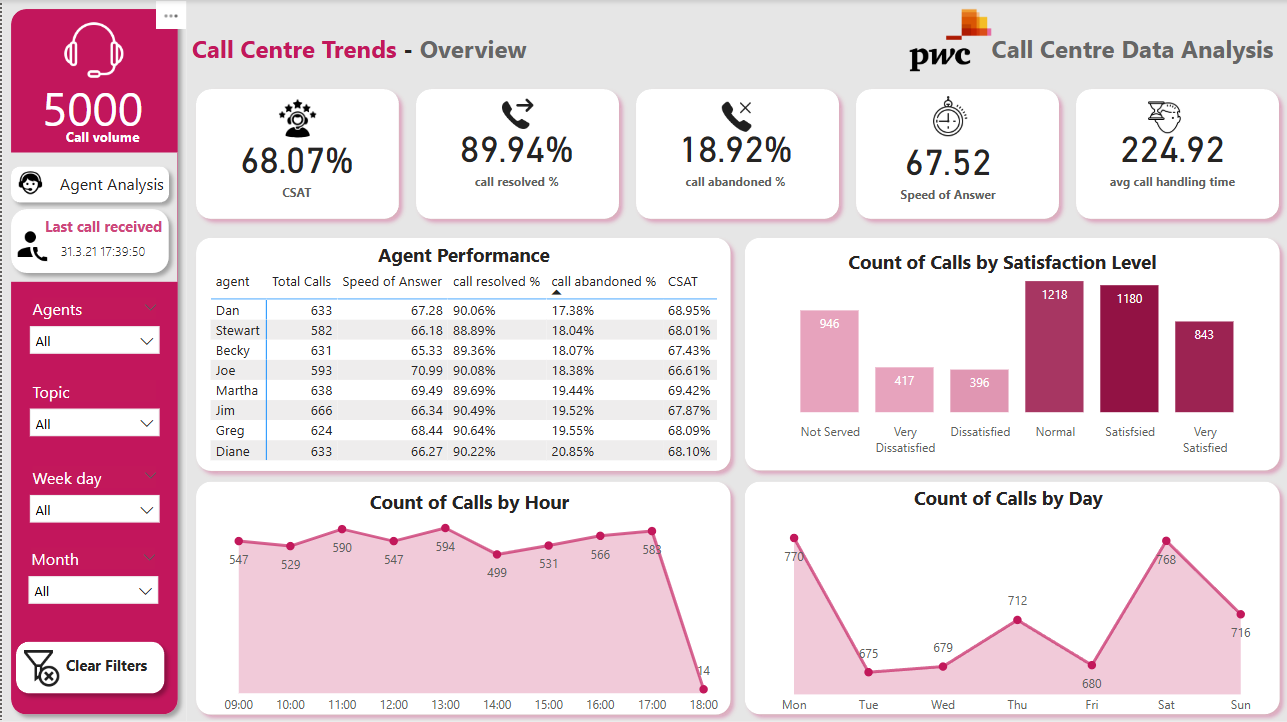

The dashboard page shown, as its layout file describes it:
{"tool":"powerbi","page":{"name":"Duplicate of BG","canvas":[1280,720],"ordinal":1},"visuals":[{"type":"group","id":"g1","title":"BG","box":[0,0,1280,720.3],"z":0},{"type":"shape","box":[0,0,184,720],"z":0,"group":"g1"},{"type":"shape","box":[184,79.9,220,147.2],"z":0,"group":"g2"},{"type":"image","box":[52.1,13.8,78.6,73.7],"z":1000},{"type":"shape","box":[403,79.9,220,147.2],"z":1000,"group":"g2"},{"type":"shape","box":[184,227.1,550,250],"z":1000,"group":"g1"},{"type":"textbox","box":[184,26.9,357.3,53],"z":2000,"group":"g1"},{"type":"card","fields":{"Values":["measures table.total calls"]},"box":[13.7,68.4,153,75.9],"z":2000},{"type":"shape","box":[622,79.9,220,147.2],"z":2000,"group":"g2"},{"type":"image","box":[897.8,0,91.6,79.9],"z":3000,"group":"g1"},{"type":"card","fields":{"Values":["measures table.call resolved percentage"]},"box":[374.4,79.6,276.2,146.8],"z":3000},{"type":"shape","box":[841,79.9,220,147.2],"z":3000,"group":"g2"},{"type":"textbox","box":[967.8,26.9,302.5,53],"z":4000,"group":"g1"},{"type":"card","fields":{"Values":["measures table.call abandoned percentage"]},"box":[598.3,79.6,263.7,148],"z":4000},{"type":"shape","box":[1060,79.9,220,147.2],"z":4000,"group":"g2"},{"type":"card","fields":{"Values":["measures table.speed of call answered"]},"box":[803.6,79.6,276.2,172.9],"z":5000},{"type":"group","id":"g2","title":"Group 1","box":[184,79.9,1096,147.2],"z":5000,"group":"g1"},{"type":"card","fields":{"Values":["measures table.call handling time"]},"box":[1049.9,79.6,230.1,148],"z":6000},{"type":"shape","box":[729.7,227.1,550.3,249.6],"z":6000,"group":"g1"},{"type":"card","fields":{"Values":["measures table.customer satisfaction"]},"box":[130.6,89.6,325.9,149.3],"z":7000},{"type":"shape","box":[184,470,550,250],"z":7000,"group":"g1"},{"type":"pivotTable","fields":{"Rows":["calls.agent"],"Values":["measures table.total calls","measures table.Speed of Answer","measures table.call resolved percentage","measures table.call abandoned %","measures table.CSAT"]},"box":[202.8,263.7,527.4,217.7],"z":8000},{"type":"shape","box":[729.7,470.4,550.3,249.6],"z":8000,"group":"g1"},{"type":"shape","box":[7.9,152.3,167,128.7],"z":9000,"group":"g1"},{"type":"areaChart","title":"total calls by hour","fields":{"Category":["calls.hours"],"Y":["measures table.total calls"]},"box":[210.2,507.5,513.8,212.7],"z":9000},{"type":"shape","box":[0,199.3,175.1,81.7],"z":10000,"group":"g1"},{"type":"areaChart","title":"total calls by day","fields":{"Y":["measures table.total calls"],"Category":["calls.day name"]},"box":[753.8,507.5,513.8,212.7],"z":10000},{"type":"shape","box":[0,156.2,175.1,53.9],"z":11000,"group":"g1"},{"type":"clusteredColumnChart","fields":{"Category":["calls.Satisfactions Levels"],"Y":["measures table.Total Calls"]},"box":[748.9,242.6,513.8,218.9],"z":11000},{"type":"card","fields":{"Values":["measures table.last call"]},"box":[51,227.6,99.5,49.8],"z":12000},{"type":"shape","box":[5.3,628.9,165.9,69.8],"z":12000,"group":"g1"},{"type":"slicer","title":"agents","fields":{"Values":["calls.agent"]},"box":[17.4,291.1,149.3,97],"z":13000},{"type":"image","box":[7.4,637.4,57.1,51.8],"z":13000,"group":"g1"},{"type":"slicer","title":"topic","fields":{"Values":["calls.topic"]},"box":[17.4,373.2,149.3,97],"z":14000},{"type":"textbox","box":[58.8,646.5,105.6,34.8],"z":14000,"group":"g1"},{"type":"textbox","box":[9.9,210.1,154.4,32.3],"z":15000,"group":"g1"},{"type":"slicer","title":"weekday","fields":{"Values":["calls.day name"]},"box":[17.4,459,149.3,97],"z":15000},{"type":"image","box":[5.4,220.8,45.8,43.1],"z":16000,"group":"g1"},{"type":"slicer","title":"month","fields":{"Values":["calls.month YY"]},"box":[16.2,539.9,149.3,97],"z":16000},{"type":"textbox","box":[49.7,122.3,100.8,34.9],"z":17000},{"type":"textbox","box":[9.8,167,156.2,32.4],"z":17000,"group":"g1"},{"type":"image","title":"Agent","box":[8.8,166,39.3,33.4],"z":18000,"group":"g1"},{"type":"textbox","box":[350.8,236.4,217.7,44.8],"z":18000},{"type":"textbox","box":[837.2,242.6,328.4,53.5],"z":18001},{"type":"textbox","box":[303.5,481.4,328.4,53.5],"z":18002},{"type":"textbox","box":[837.2,477.7,328.4,53.5],"z":18003},{"type":"image","box":[262.5,90.5,62.5,53.4],"z":19000,"group":"g1"},{"type":"image","box":[482.5,89.6,58.8,48.9],"z":20000,"group":"g1"},{"type":"image","box":[708.3,94.1,46.2,43.2],"z":21000,"group":"g1"},{"type":"image","box":[917.5,90.4,50.1,50.1],"z":22000,"group":"g1"},{"type":"image","box":[1135.2,95,42.5,46.2],"z":23000,"group":"g1"}]}

Visuals, with their boxes in screenshot pixels (x1, y1, x2, y2), scaled from the page's 1280x720 canvas onto the 1287x722 screenshot:
"BG" group: select_region(0, 0, 1286, 721)
shape: select_region(0, 0, 185, 721)
shape: select_region(185, 80, 406, 228)
image: select_region(52, 14, 131, 88)
shape: select_region(405, 80, 626, 228)
shape: select_region(185, 228, 738, 478)
textbox: select_region(185, 27, 544, 80)
card - measures table.total calls: select_region(14, 69, 168, 145)
shape: select_region(625, 80, 847, 228)
image: select_region(903, 0, 995, 80)
card - measures table.call resolved percentage: select_region(376, 80, 654, 227)
shape: select_region(846, 80, 1067, 228)
textbox: select_region(973, 27, 1277, 80)
card - measures table.call abandoned percentage: select_region(602, 80, 867, 228)
shape: select_region(1066, 80, 1286, 228)
card - measures table.speed of call answered: select_region(808, 80, 1086, 253)
"Group 1" group: select_region(185, 80, 1286, 228)
card - measures table.call handling time: select_region(1056, 80, 1286, 228)
shape: select_region(734, 228, 1286, 478)
card - measures table.customer satisfaction: select_region(131, 90, 459, 240)
shape: select_region(185, 471, 738, 721)
pivotTable - calls.agent x measures table.total calls: select_region(204, 264, 734, 483)
shape: select_region(734, 472, 1286, 721)
shape: select_region(8, 153, 176, 282)
"total calls by hour" areaChart: select_region(211, 509, 728, 721)
shape: select_region(0, 200, 176, 282)
"total calls by day" areaChart: select_region(758, 509, 1275, 721)
shape: select_region(0, 157, 176, 211)
clusteredColumnChart - calls.Satisfactions Levels x measures table.Total Calls: select_region(753, 243, 1270, 463)
card - measures table.last call: select_region(51, 228, 151, 278)
shape: select_region(5, 631, 172, 701)
"agents" slicer: select_region(17, 292, 168, 389)
image: select_region(7, 639, 65, 691)
"topic" slicer: select_region(17, 374, 168, 472)
textbox: select_region(59, 648, 165, 683)
textbox: select_region(10, 211, 165, 243)
"weekday" slicer: select_region(17, 460, 168, 558)
image: select_region(5, 221, 51, 265)
"month" slicer: select_region(16, 541, 166, 639)
textbox: select_region(50, 123, 151, 158)
textbox: select_region(10, 167, 167, 200)
"Agent" image: select_region(9, 166, 48, 200)
textbox: select_region(353, 237, 572, 282)
textbox: select_region(842, 243, 1172, 297)
textbox: select_region(305, 483, 635, 536)
textbox: select_region(842, 479, 1172, 533)
image: select_region(264, 91, 327, 144)
image: select_region(485, 90, 544, 139)
image: select_region(712, 94, 759, 138)
image: select_region(923, 91, 973, 141)
image: select_region(1141, 95, 1184, 142)
